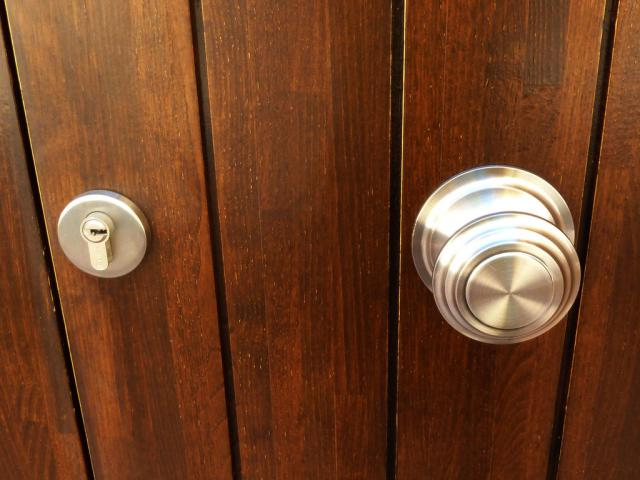Door-handle: (411, 163, 580, 345)
